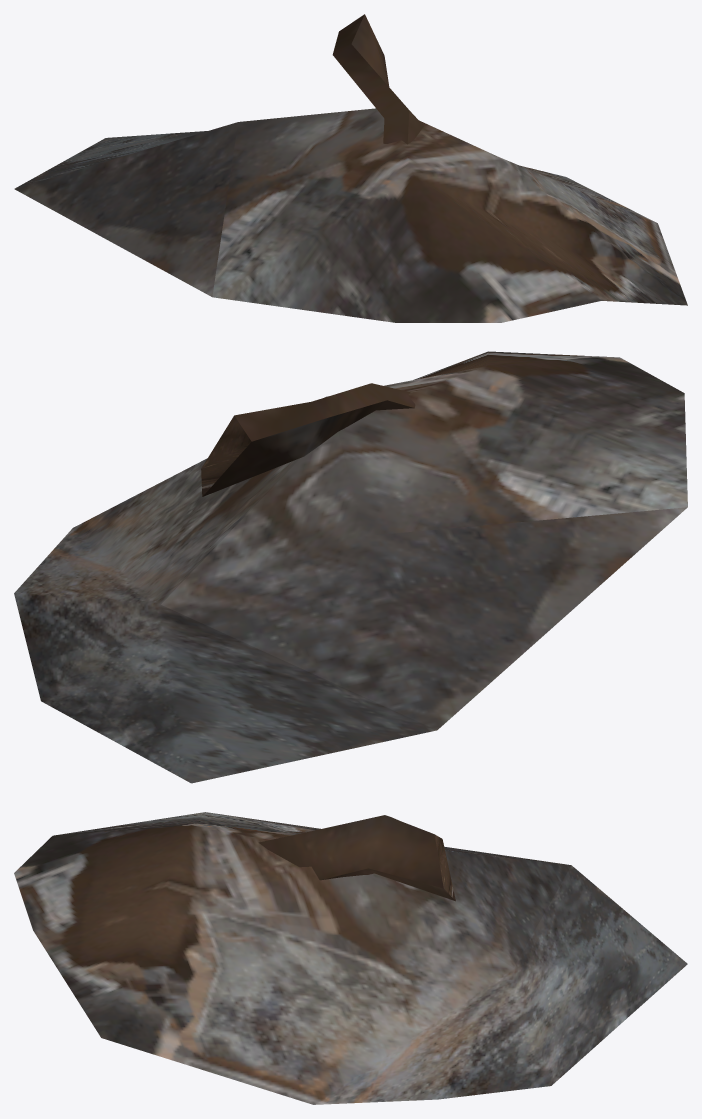
File: plane_wreckage_debris_micro_05.dae
3 views of the same model, one above another, from view 1: azimuth 30°, elevation 25°; view 2: azimuth 150°, elevation 25°; view 3: azimuth 270°, elevation 25° (orthographic). The views are drawn at different scales.
Visible parts, largest first — view 1: polySurface48, pasted__polySurface55; view 2: polySurface48, pasted__polySurface55; view 3: polySurface48, pasted__polySurface55.
Part boxes in pixels (x1=…): polySurface48: x1=14, y1=108, x2=687, y2=322; pasted__polySurface55: x1=332, y1=14, x2=423, y2=144; polySurface48: x1=14, y1=351, x2=687, y2=783; pasted__polySurface55: x1=201, y1=383, x2=415, y2=496; polySurface48: x1=14, y1=812, x2=687, y2=1104; pasted__polySurface55: x1=258, y1=815, x2=455, y2=901.
Size of the model in its own units: 23.25 by 10.67 by 31.43.
